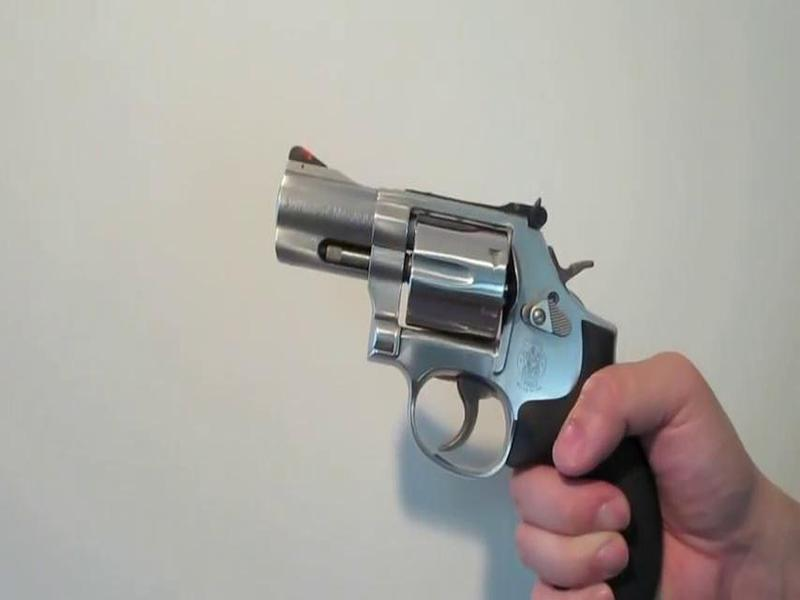Revolver: (250, 128, 677, 600)
